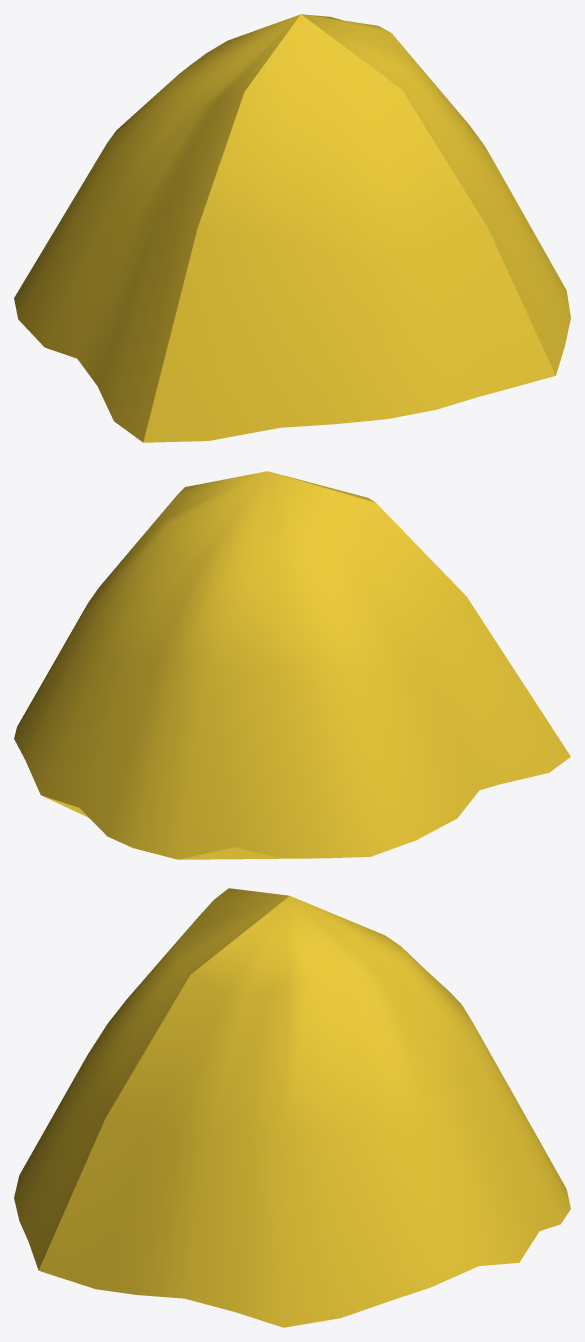
File: sulfur 1.fbx
3 views of the same model, one above another, from view 1: azimuth 30°, elevation 25°; view 2: azimuth 150°, elevation 25°; view 3: azimuth 270°, elevation 25° (orthographic). The views are drawn at different scales.
Visible parts, largest first — view 1: Cone; view 2: Cone; view 3: Cone.
Boxes of the visible parts, box(x1,y1,x2,y2) form: Cone: box(14, 14, 570, 442); Cone: box(14, 471, 570, 859); Cone: box(14, 888, 570, 1327).
Size of the model in its own units: 7.47 by 4.53 by 7.27.
